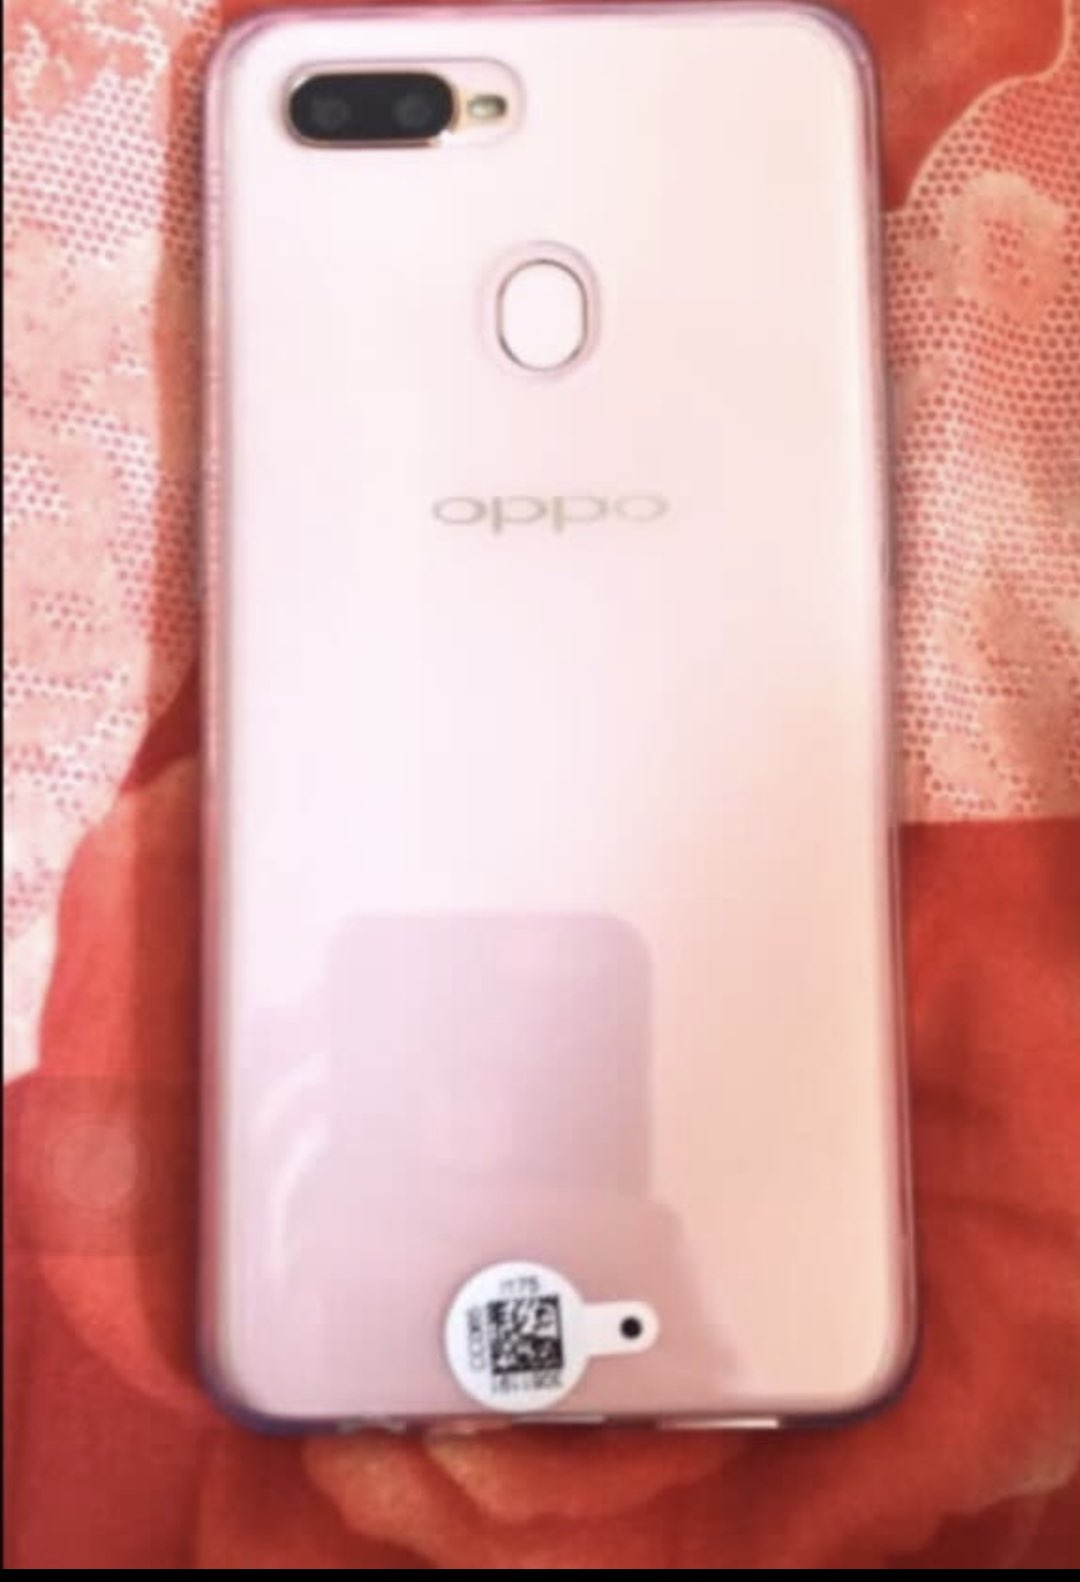mobil: (190, 11, 924, 1434)
